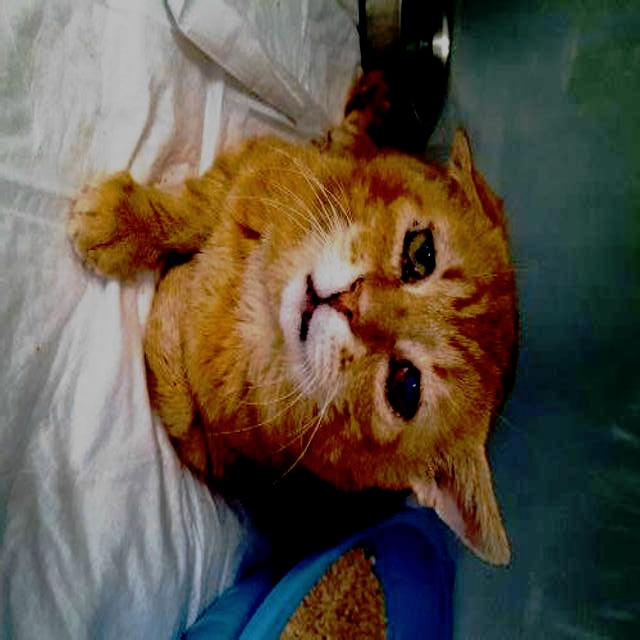eye_infection: (379, 359, 426, 418), (396, 226, 440, 286)
